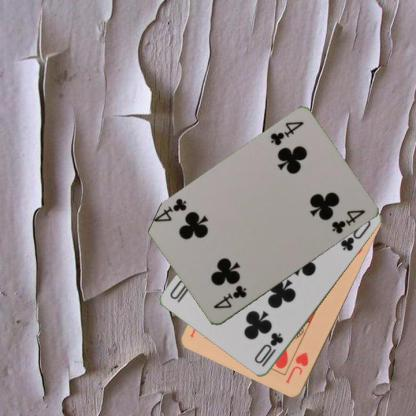10c: (251, 330, 285, 369)
4c: (268, 119, 305, 147), (210, 283, 248, 310)
Jh: (282, 350, 310, 386)
